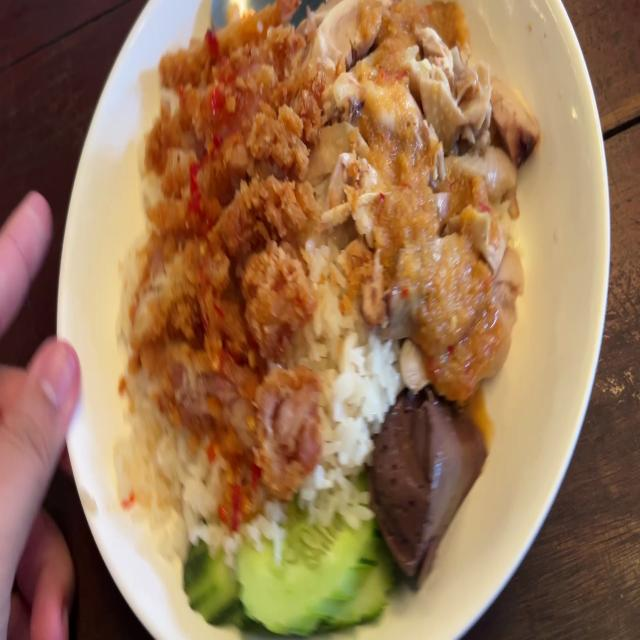chicken_rice: (314, 0, 516, 374)
noodle: (365, 380, 472, 575)
